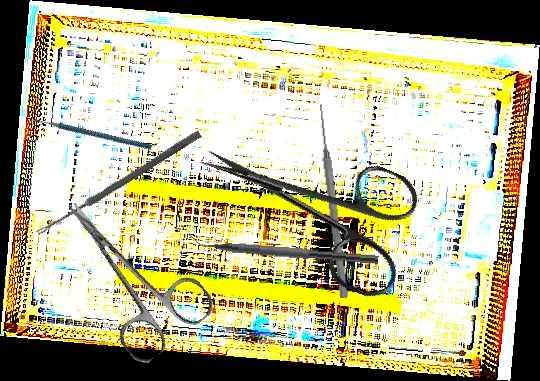Chopper: (23, 81, 154, 190), (184, 228, 380, 265)
Iris Scissors: (176, 100, 434, 305), (35, 172, 220, 369)
Pusher: (314, 103, 351, 299)
Surgical Spoon: (35, 129, 202, 238)
